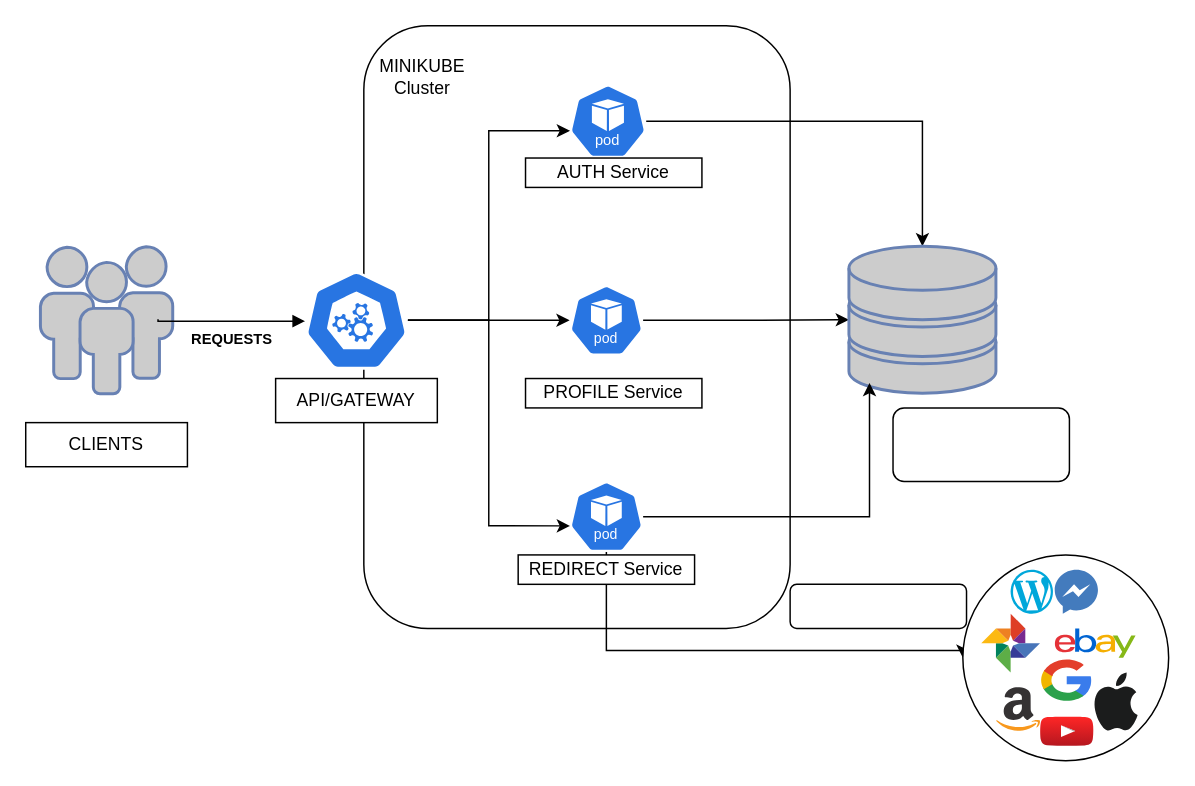
Image size: 1195x786. Some labels were removed from this diagram. Here are the shapes that lost their labels. From the top down, the centre of each, then its label:
the point at 980,443: AUTH / PROFILE / LINKS DATABASE
the point at 878,605: INTERNET
